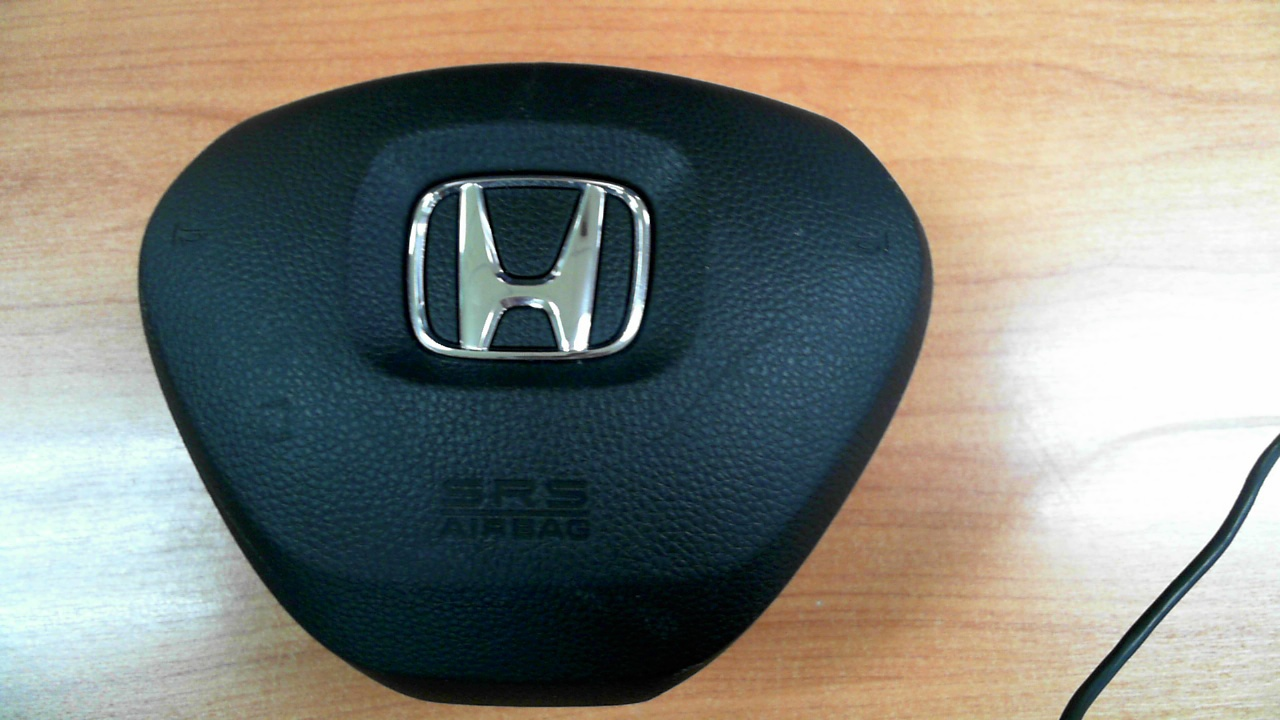Airbag: (137, 60, 935, 709)
Honda: (406, 174, 652, 361)
